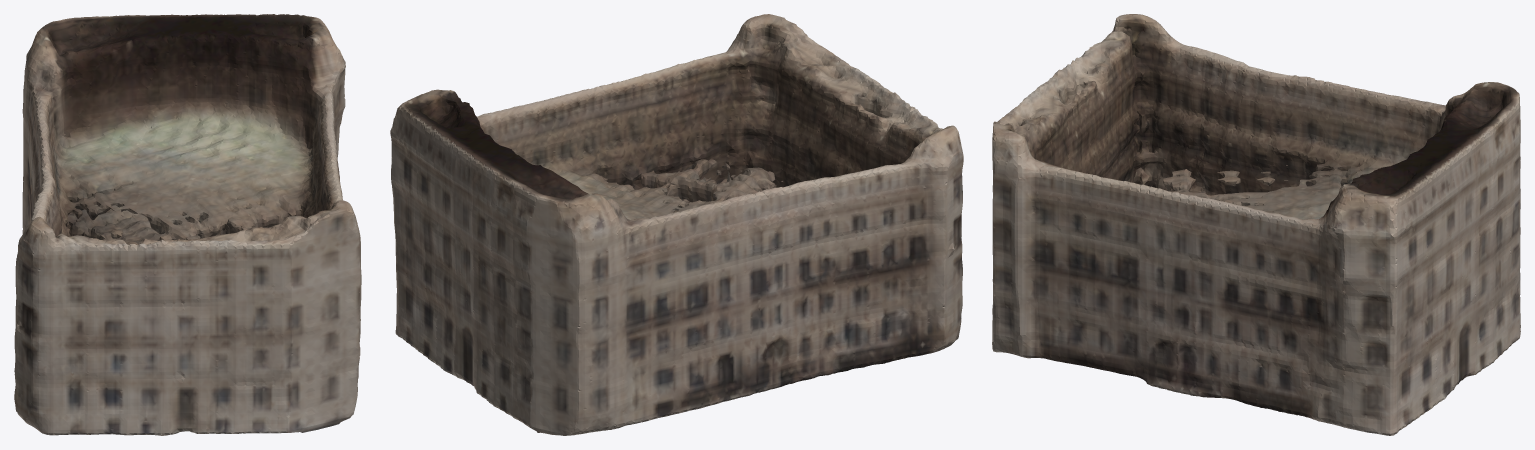
Rendered from edificio-otro.glb.
3 renders of one model, left to right at view 1: azimuth 30°, elevation 25°; view 2: azimuth 150°, elevation 25°; view 3: azimuth 270°, elevation 25°, orthographic. The views are drawn at different scales.
Parts seen in each view (by area): view 1: world; view 2: world; view 3: world.
Part boxes in pixels (x1,y1,x2,y2): world: [14, 14, 361, 435]; world: [390, 14, 963, 435]; world: [992, 14, 1520, 435].
Bounding box in the file's own units: 1.93 × 0.9868 × 1.98.
